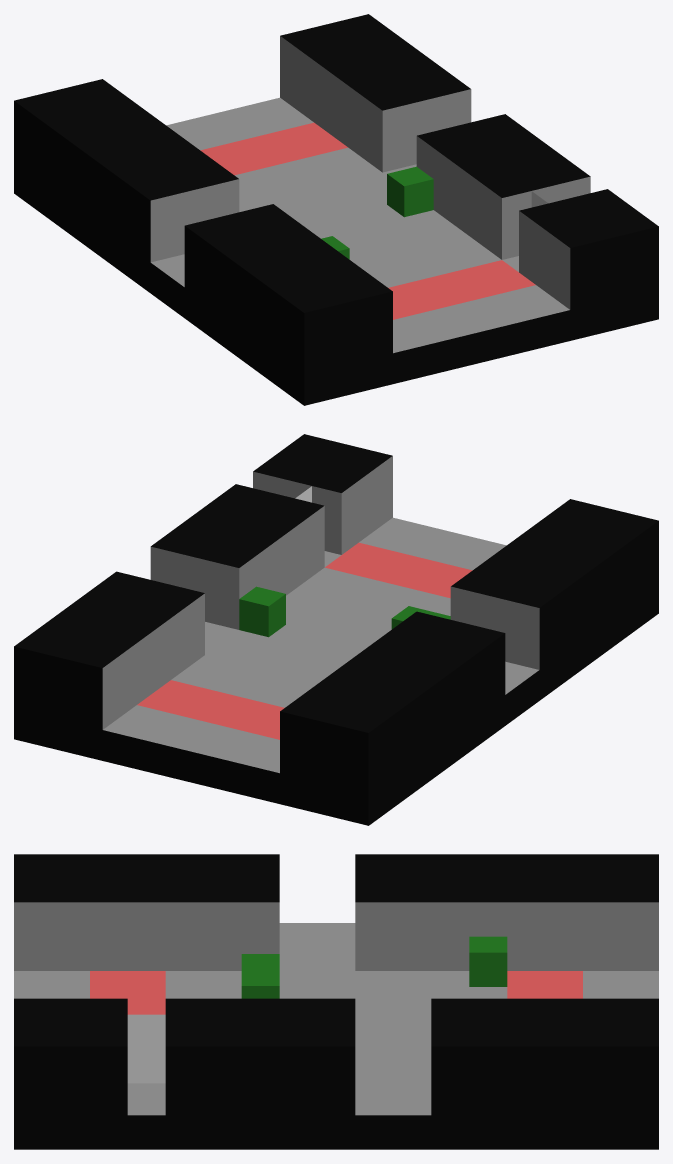
File: Alley.fbx
3 renders of one model, top to bottom at view 1: azimuth 30°, elevation 25°; view 2: azimuth 150°, elevation 25°; view 3: azimuth 270°, elevation 25°, orthographic. The views are drawn at different scales.
Parts seen in each view (by area): view 1: Cube; view 2: Cube; view 3: Cube, Tile, Tile.024, Tile.039, Tile.052, Tile.065, Tile.066, Tile.053, Tile.025, Tile.040, Tile.032, Tile.033 (+18 smaller).
Boxes of the visible parts, left/top/right/bottom form: Cube: left=14, top=14, right=658, bottom=405; Cube: left=14, top=434, right=658, bottom=825; Cube: left=14, top=854, right=658, bottom=1149; Tile: left=469, top=936, right=507, bottom=952; Tile.024: left=393, top=1067, right=431, bottom=1083; Tile.039: left=393, top=1035, right=431, bottom=1051; Tile.052: left=393, top=1019, right=431, bottom=1035; Tile.065: left=393, top=1003, right=431, bottom=1019; Tile.066: left=355, top=1003, right=393, bottom=1019; Tile.053: left=355, top=1019, right=393, bottom=1035; Tile.025: left=355, top=1067, right=393, bottom=1083; Tile.040: left=355, top=1035, right=392, bottom=1051; Tile.032: left=393, top=1051, right=431, bottom=1067; Tile.033: left=355, top=1051, right=392, bottom=1067.
Bounding box in the file's own units: 1200 × 300 × 1700.
